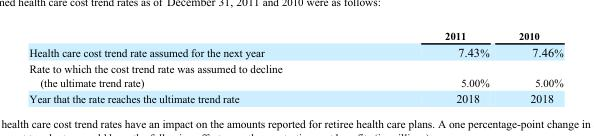table: (28, 29, 562, 104)
table column: (28, 29, 362, 104), (362, 29, 503, 104), (503, 29, 562, 104)
table column header: (28, 29, 562, 42)
table row: (28, 60, 562, 90), (28, 42, 562, 60), (28, 90, 562, 104), (28, 29, 562, 42)
